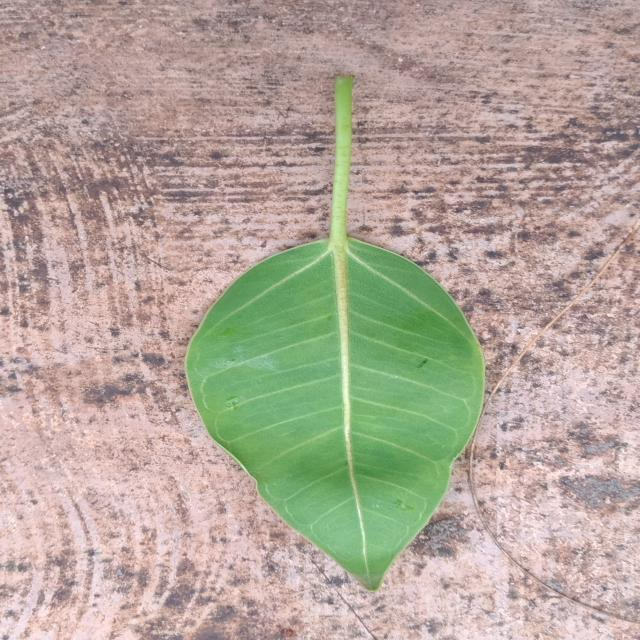camphor: (187, 76, 484, 590)
